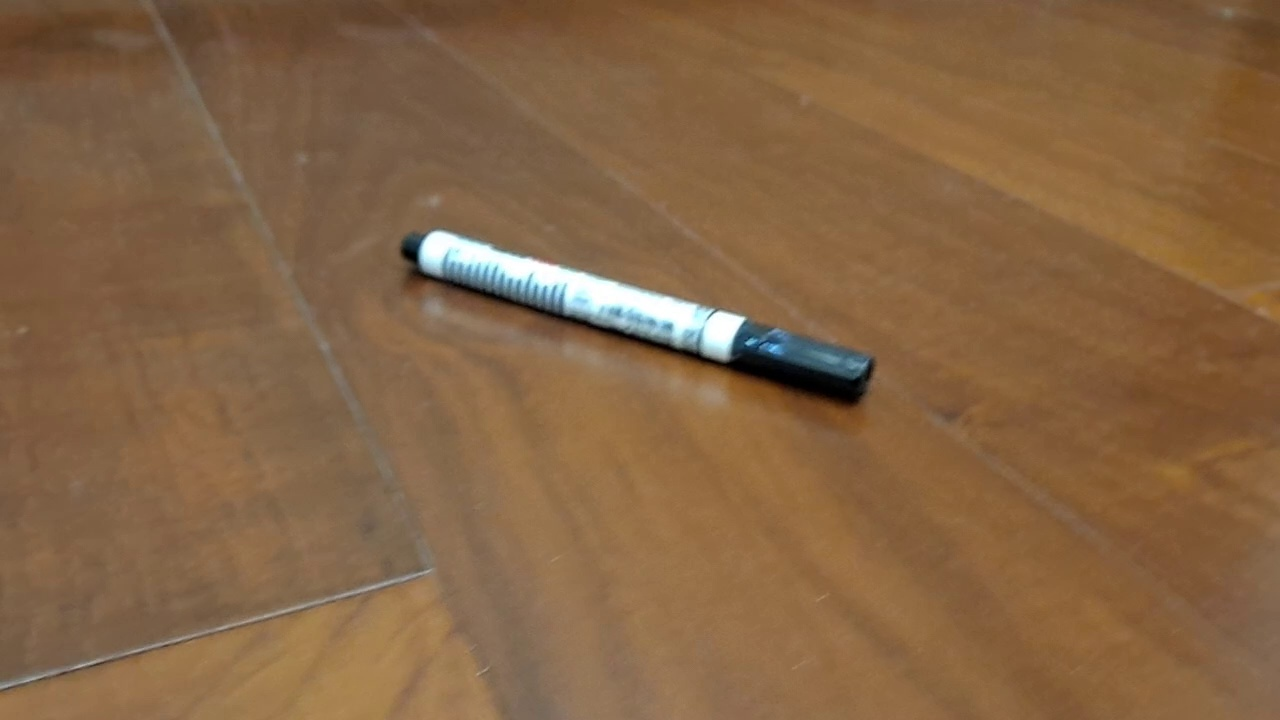pen: (399, 228, 877, 407)
